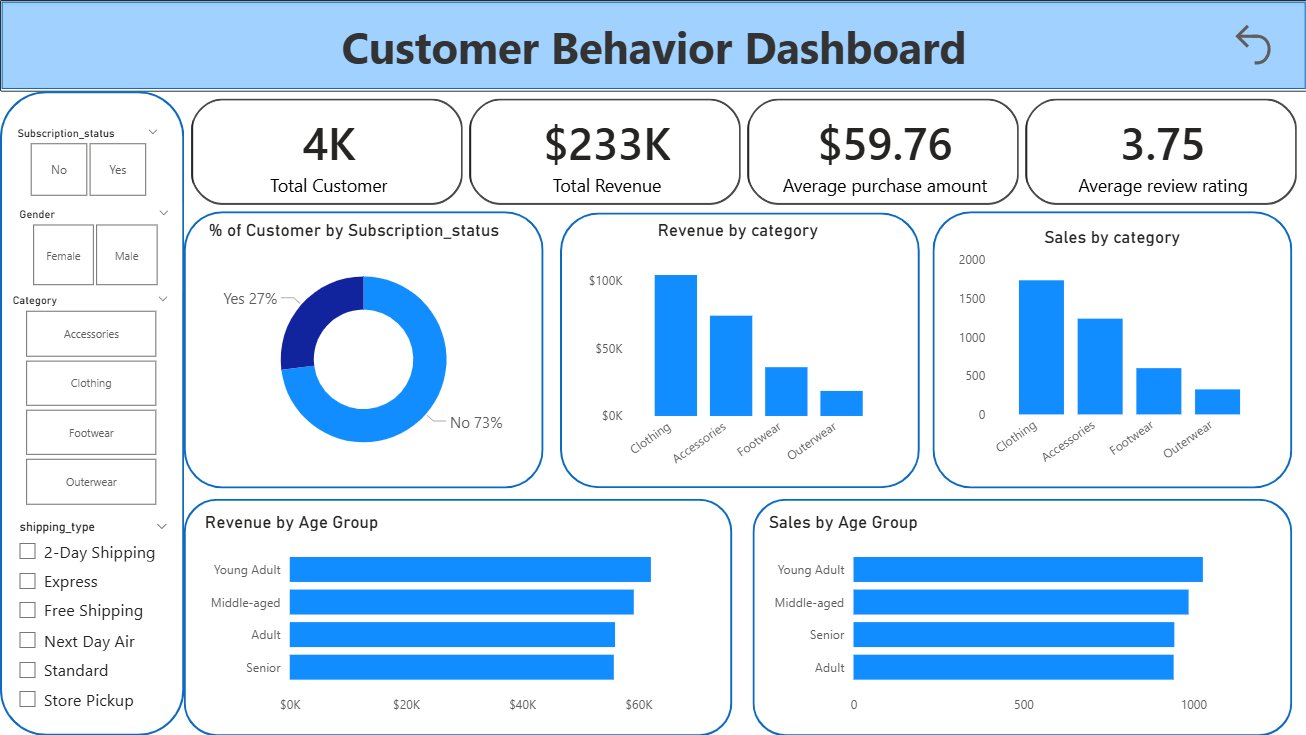

The page's visual inventory and layout, read from the dashboard file:
{"tool":"powerbi","page":{"name":"Page 1","canvas":[1280,720],"ordinal":0},"visuals":[{"type":"shape","box":[180.3,206.3,352,271.2],"z":0},{"type":"cardVisual","fields":{"Data":[" Measures.Total Customer"," Measures.Total_Revenue"," Measures.avg_purchase_amount"," Measures.Average review rating"]},"box":[180.3,89.5,1099.4,118.3],"z":1000},{"type":"shape","box":[0,0,1279.7,89.5],"z":2000},{"type":"donutChart","title":"% of Customer by Subscription_status","fields":{"Y":[" Measures.Total Customer"],"Category":["customer customer_table.subscription_status"]},"box":[199.1,215,313.1,253.9],"z":3000},{"type":"shape","box":[0,89.5,180.3,630.5],"z":4000},{"type":"shape","box":[548.2,207.8,352,269.8],"z":5000},{"type":"shape","box":[911.8,206.3,352,271.2],"z":6000},{"type":"clusteredColumnChart","title":"Revenue by category","fields":{"Category":["customer customer_table.category"],"Y":[" Measures.Total_Revenue"]},"box":[571.3,215,301.5,253.9],"z":7000},{"type":"clusteredColumnChart","title":"Sales by category","fields":{"Category":["customer customer_table.category"],"Y":[" Measures.Total Customer"]},"box":[933.5,220.7,310.2,245.3],"z":8000},{"type":"shape","box":[180.3,487.7,536.7,232.3],"z":9000},{"type":"shape","box":[735.8,487.7,528.1,232.3],"z":10000},{"type":"clusteredBarChart","title":"Revenue by Age Group","fields":{"Y":[" Measures.Total_Revenue"],"Category":["customer customer_table.age_group"]},"box":[196.2,500.6,505,207.8],"z":11000},{"type":"clusteredBarChart","title":"Sales by Age Group","fields":{"Category":["customer customer_table.age_group"],"Y":[" Measures.Total Customer"]},"box":[747.4,500.6,505,207.8],"z":12000},{"type":"slicer","fields":{"Values":["customer customer_table.subscription_status"]},"box":[6.1,118.6,159,79.5],"z":13000},{"type":"slicer","fields":{"Values":["customer customer_table.gender"]},"box":[5.8,197.7,171.7,88],"z":14000},{"type":"slicer","fields":{"Values":["customer customer_table.category"]},"box":[3,283,171.7,217.9],"z":15000},{"type":"slicer","fields":{"Values":["customer customer_table.shipping_type"]},"box":[5.8,503.5,170.2,204.9],"z":16000},{"type":"actionButton","box":[1200.4,18.8,51.9,50.5],"z":16001}]}

Visuals, with their boxes in screenshot pixels (x1, y1, x2, y2), scaled from the page's 1280x720 canvas onto the 1306x735 screenshot:
shape: (184, 211, 543, 487)
cardVisual -  Measures.Total Customer x  Measures.Total_Revenue: (184, 91, 1305, 212)
shape: (0, 0, 1305, 91)
"% of Customer by Subscription_status" donutChart: (203, 219, 523, 479)
shape: (0, 91, 184, 734)
shape: (559, 212, 918, 488)
shape: (930, 211, 1289, 487)
"Revenue by category" clusteredColumnChart: (583, 219, 891, 479)
"Sales by category" clusteredColumnChart: (952, 225, 1269, 476)
shape: (184, 498, 732, 734)
shape: (751, 498, 1290, 734)
"Revenue by Age Group" clusteredBarChart: (200, 511, 715, 723)
"Sales by Age Group" clusteredBarChart: (763, 511, 1278, 723)
slicer - customer customer_table.subscription_status: (6, 121, 168, 202)
slicer - customer customer_table.gender: (6, 202, 181, 292)
slicer - customer customer_table.category: (3, 289, 178, 511)
slicer - customer customer_table.shipping_type: (6, 514, 180, 723)
actionButton: (1225, 19, 1278, 71)
